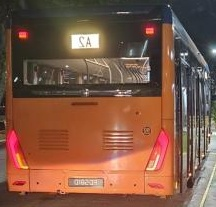bus: (71, 34, 97, 49)
